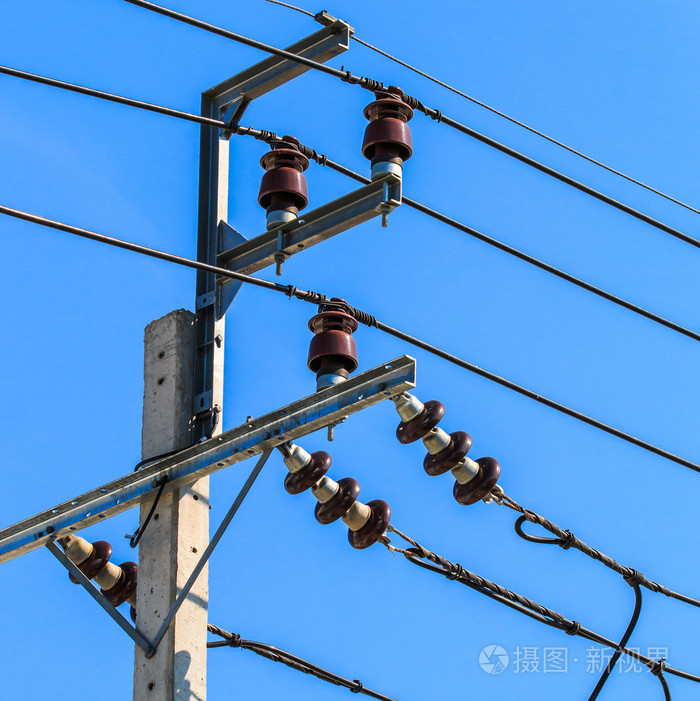insulator: (395, 398, 499, 508), (284, 449, 392, 551), (66, 540, 144, 610)
